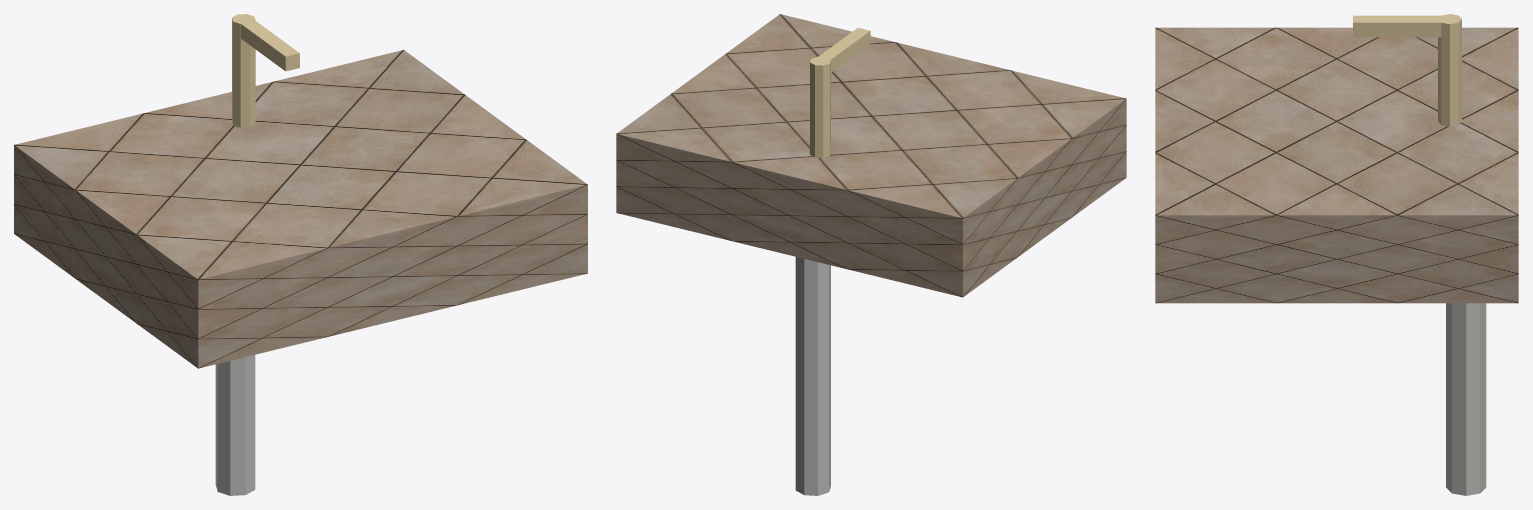
The model's file is lavatorio_pne.glb.
3 views of the same model, side by side, from view 1: azimuth 30°, elevation 25°; view 2: azimuth 150°, elevation 25°; view 3: azimuth 270°, elevation 25° (orthographic). The views are drawn at different scales.
Visible parts, largest first — view 1: lavatorio_pne; view 2: lavatorio_pne; view 3: lavatorio_pne.
Part boxes in pixels (<box>): lavatorio_pne: <box>14,14,587,495</box>; lavatorio_pne: <box>616,14,1126,495</box>; lavatorio_pne: <box>1155,14,1518,495</box>.
Size of the model in its own units: 0.55 by 0.64 by 0.45.
3 materials, 1 textured.
